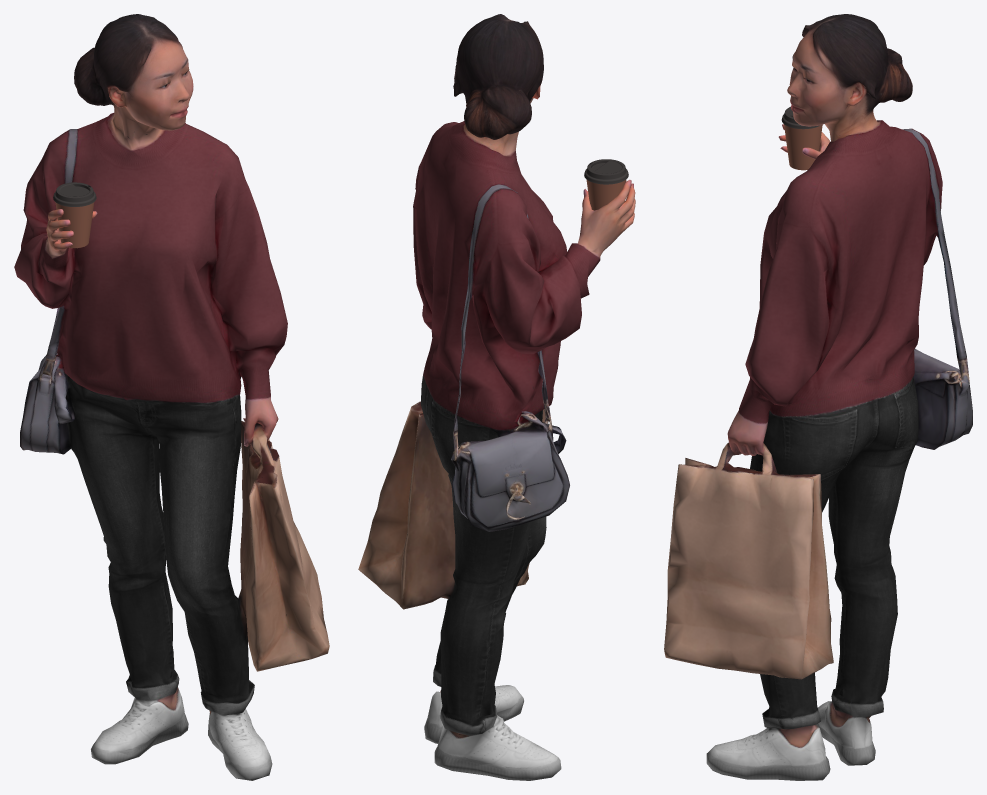
File: Humano_Posed_0835341-Woman_04_LOD2.fbx
The picture shows the model from 3 angles, left to right: view 1: azimuth 30°, elevation 25°; view 2: azimuth 150°, elevation 25°; view 3: azimuth 270°, elevation 25°; orthographic projection. The views are drawn at different scales.
Visible parts, largest first — view 1: Humano_Posed_0835341-Woman_04_LOD2, Humano_Posed_0835341-Woman_Accessories-01_04_LOD2; view 2: Humano_Posed_0835341-Woman_04_LOD2, Humano_Posed_0835341-Woman_Accessories-01_04_LOD2; view 3: Humano_Posed_0835341-Woman_04_LOD2, Humano_Posed_0835341-Woman_Accessories-01_04_LOD2.
Part boxes in pixels (box(x1,y1,x2,y2)): Humano_Posed_0835341-Woman_04_LOD2: box(14, 14, 329, 780); Humano_Posed_0835341-Woman_Accessories-01_04_LOD2: box(53, 182, 96, 248); Humano_Posed_0835341-Woman_04_LOD2: box(358, 14, 635, 780); Humano_Posed_0835341-Woman_Accessories-01_04_LOD2: box(584, 159, 628, 210); Humano_Posed_0835341-Woman_04_LOD2: box(664, 14, 972, 780); Humano_Posed_0835341-Woman_Accessories-01_04_LOD2: box(781, 106, 822, 170).
Bounding box in the file's own units: 63.14 × 164 × 63.36.
